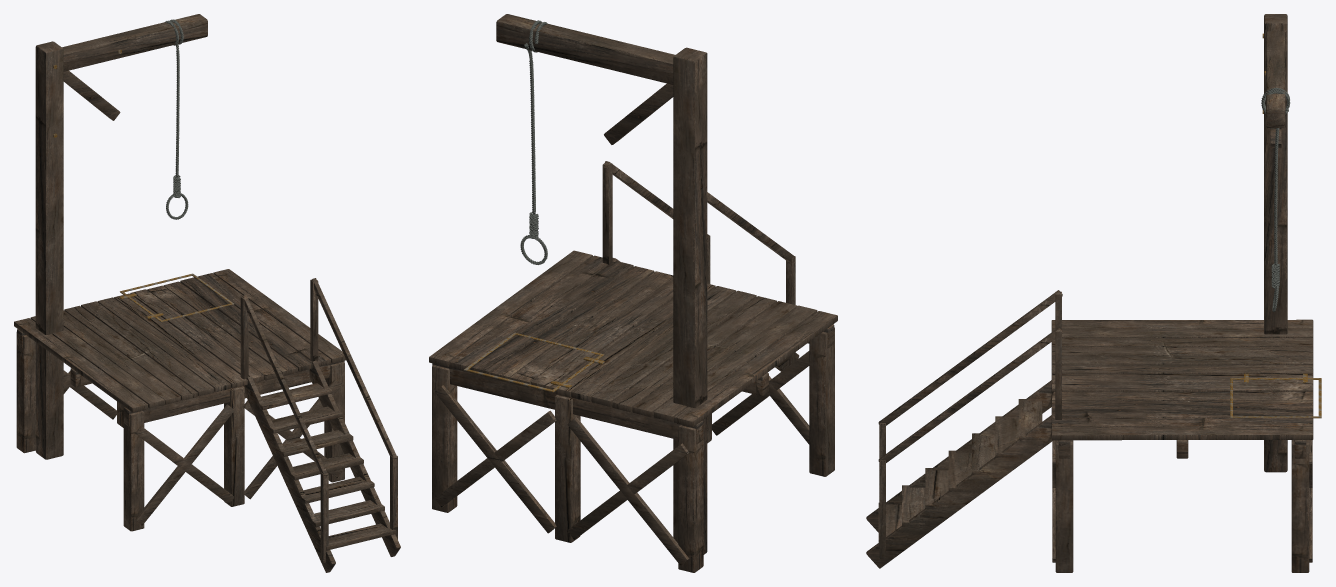
File: gallows.glb
3 views of the same model, side by side, from view 1: azimuth 30°, elevation 25°; view 2: azimuth 150°, elevation 25°; view 3: azimuth 270°, elevation 25° (orthographic). The views are drawn at different scales.
Parts seen in each view (by area): view 1: gallows_v, gallows_h, gallows_rope, gallows_iron; view 2: gallows_v, gallows_h, gallows_rope, gallows_iron; view 3: gallows_v, gallows_h, gallows_rope, gallows_iron.
Part boxes in pixels (x1,y1,x2,y2): gallows_v: (14,41,397,562); gallows_h: (17,14,400,572); gallows_rope: (165,19,188,219); gallows_iron: (53,50,234,322); gallows_v: (429,47,837,572); gallows_h: (432,14,834,565); gallows_rope: (520,20,547,264); gallows_iron: (463,332,604,392); gallows_v: (879,14,1313,572); gallows_h: (866,31,1312,568); gallows_rope: (1261,88,1290,311); gallows_iron: (1230,33,1321,418).
Bounding box in the file's own units: 2.8 × 5.18 × 4.63.
Materials: 4 (4 with a texture image).
